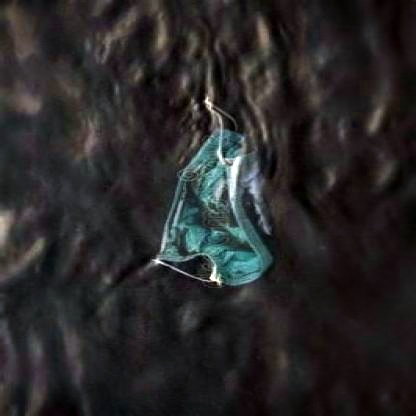Mask: (152, 92, 283, 288)
